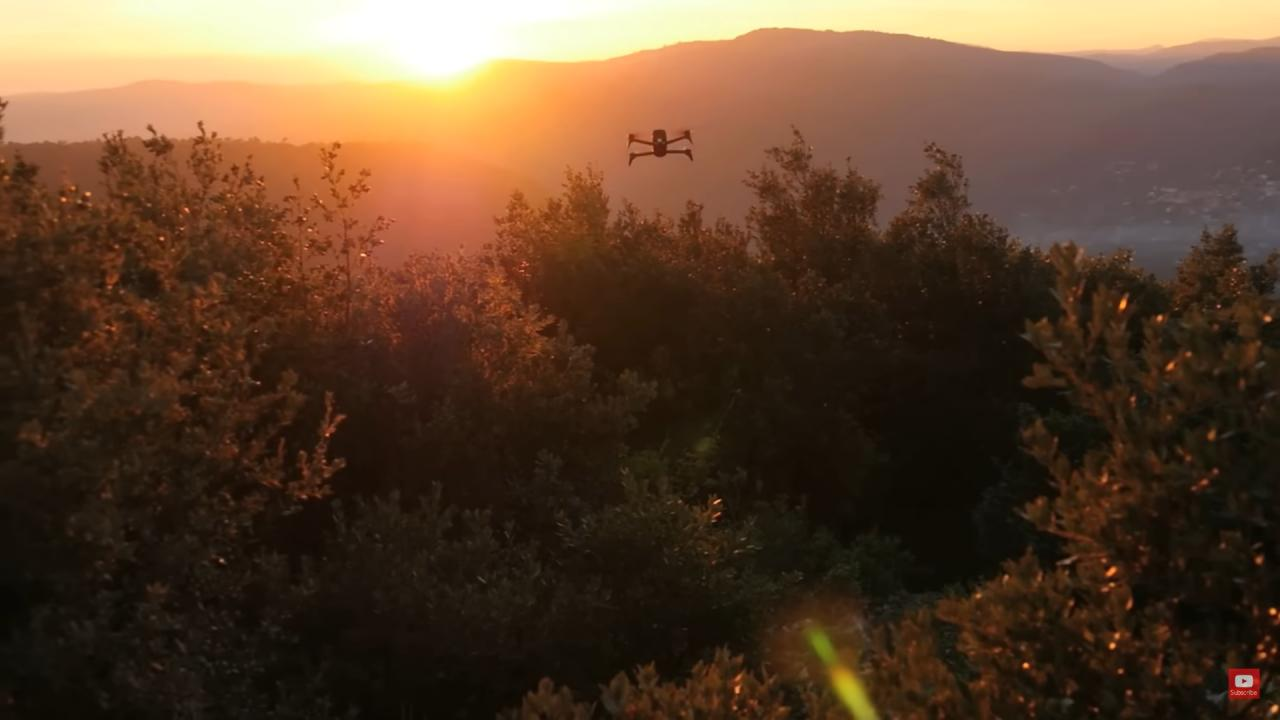Drone: (620, 122, 700, 172)
